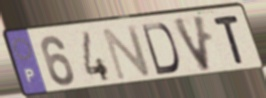4: (81, 29, 111, 83)
6: (39, 34, 76, 88)
D: (140, 21, 182, 77)
N: (100, 23, 153, 82)
T: (211, 13, 247, 66)
V: (170, 13, 214, 75)
